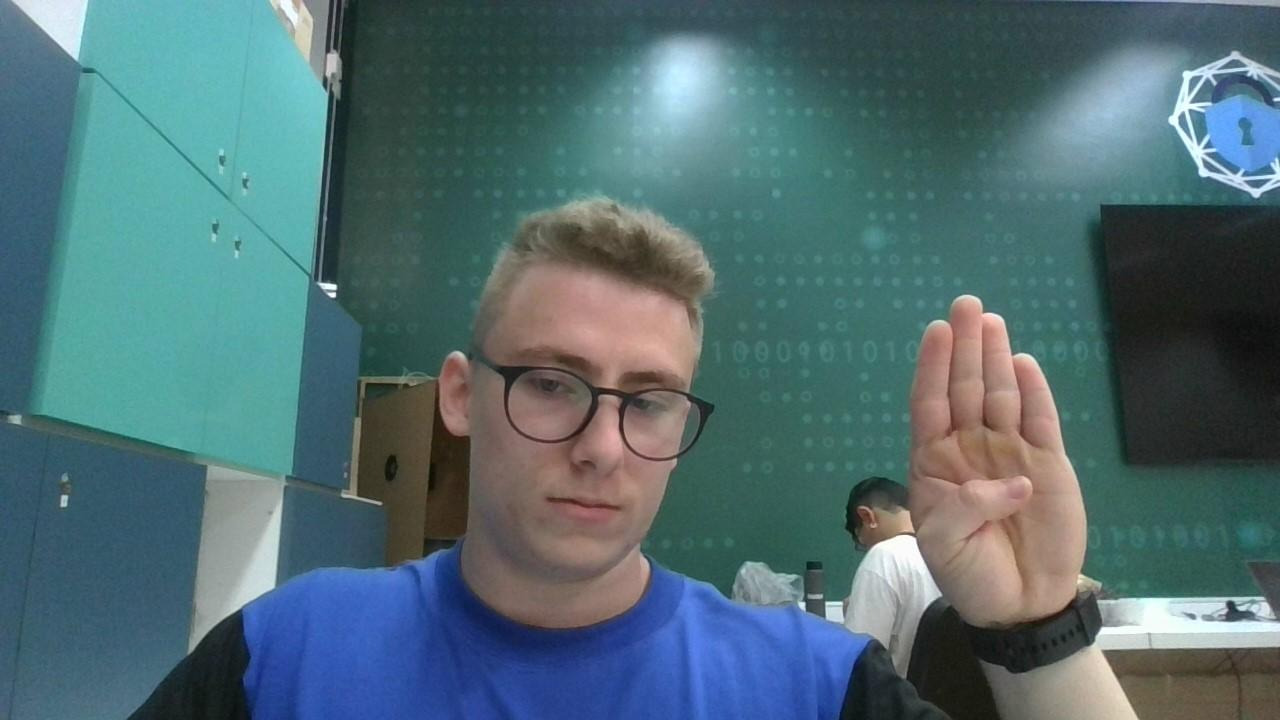B: (898, 290, 1096, 604)
